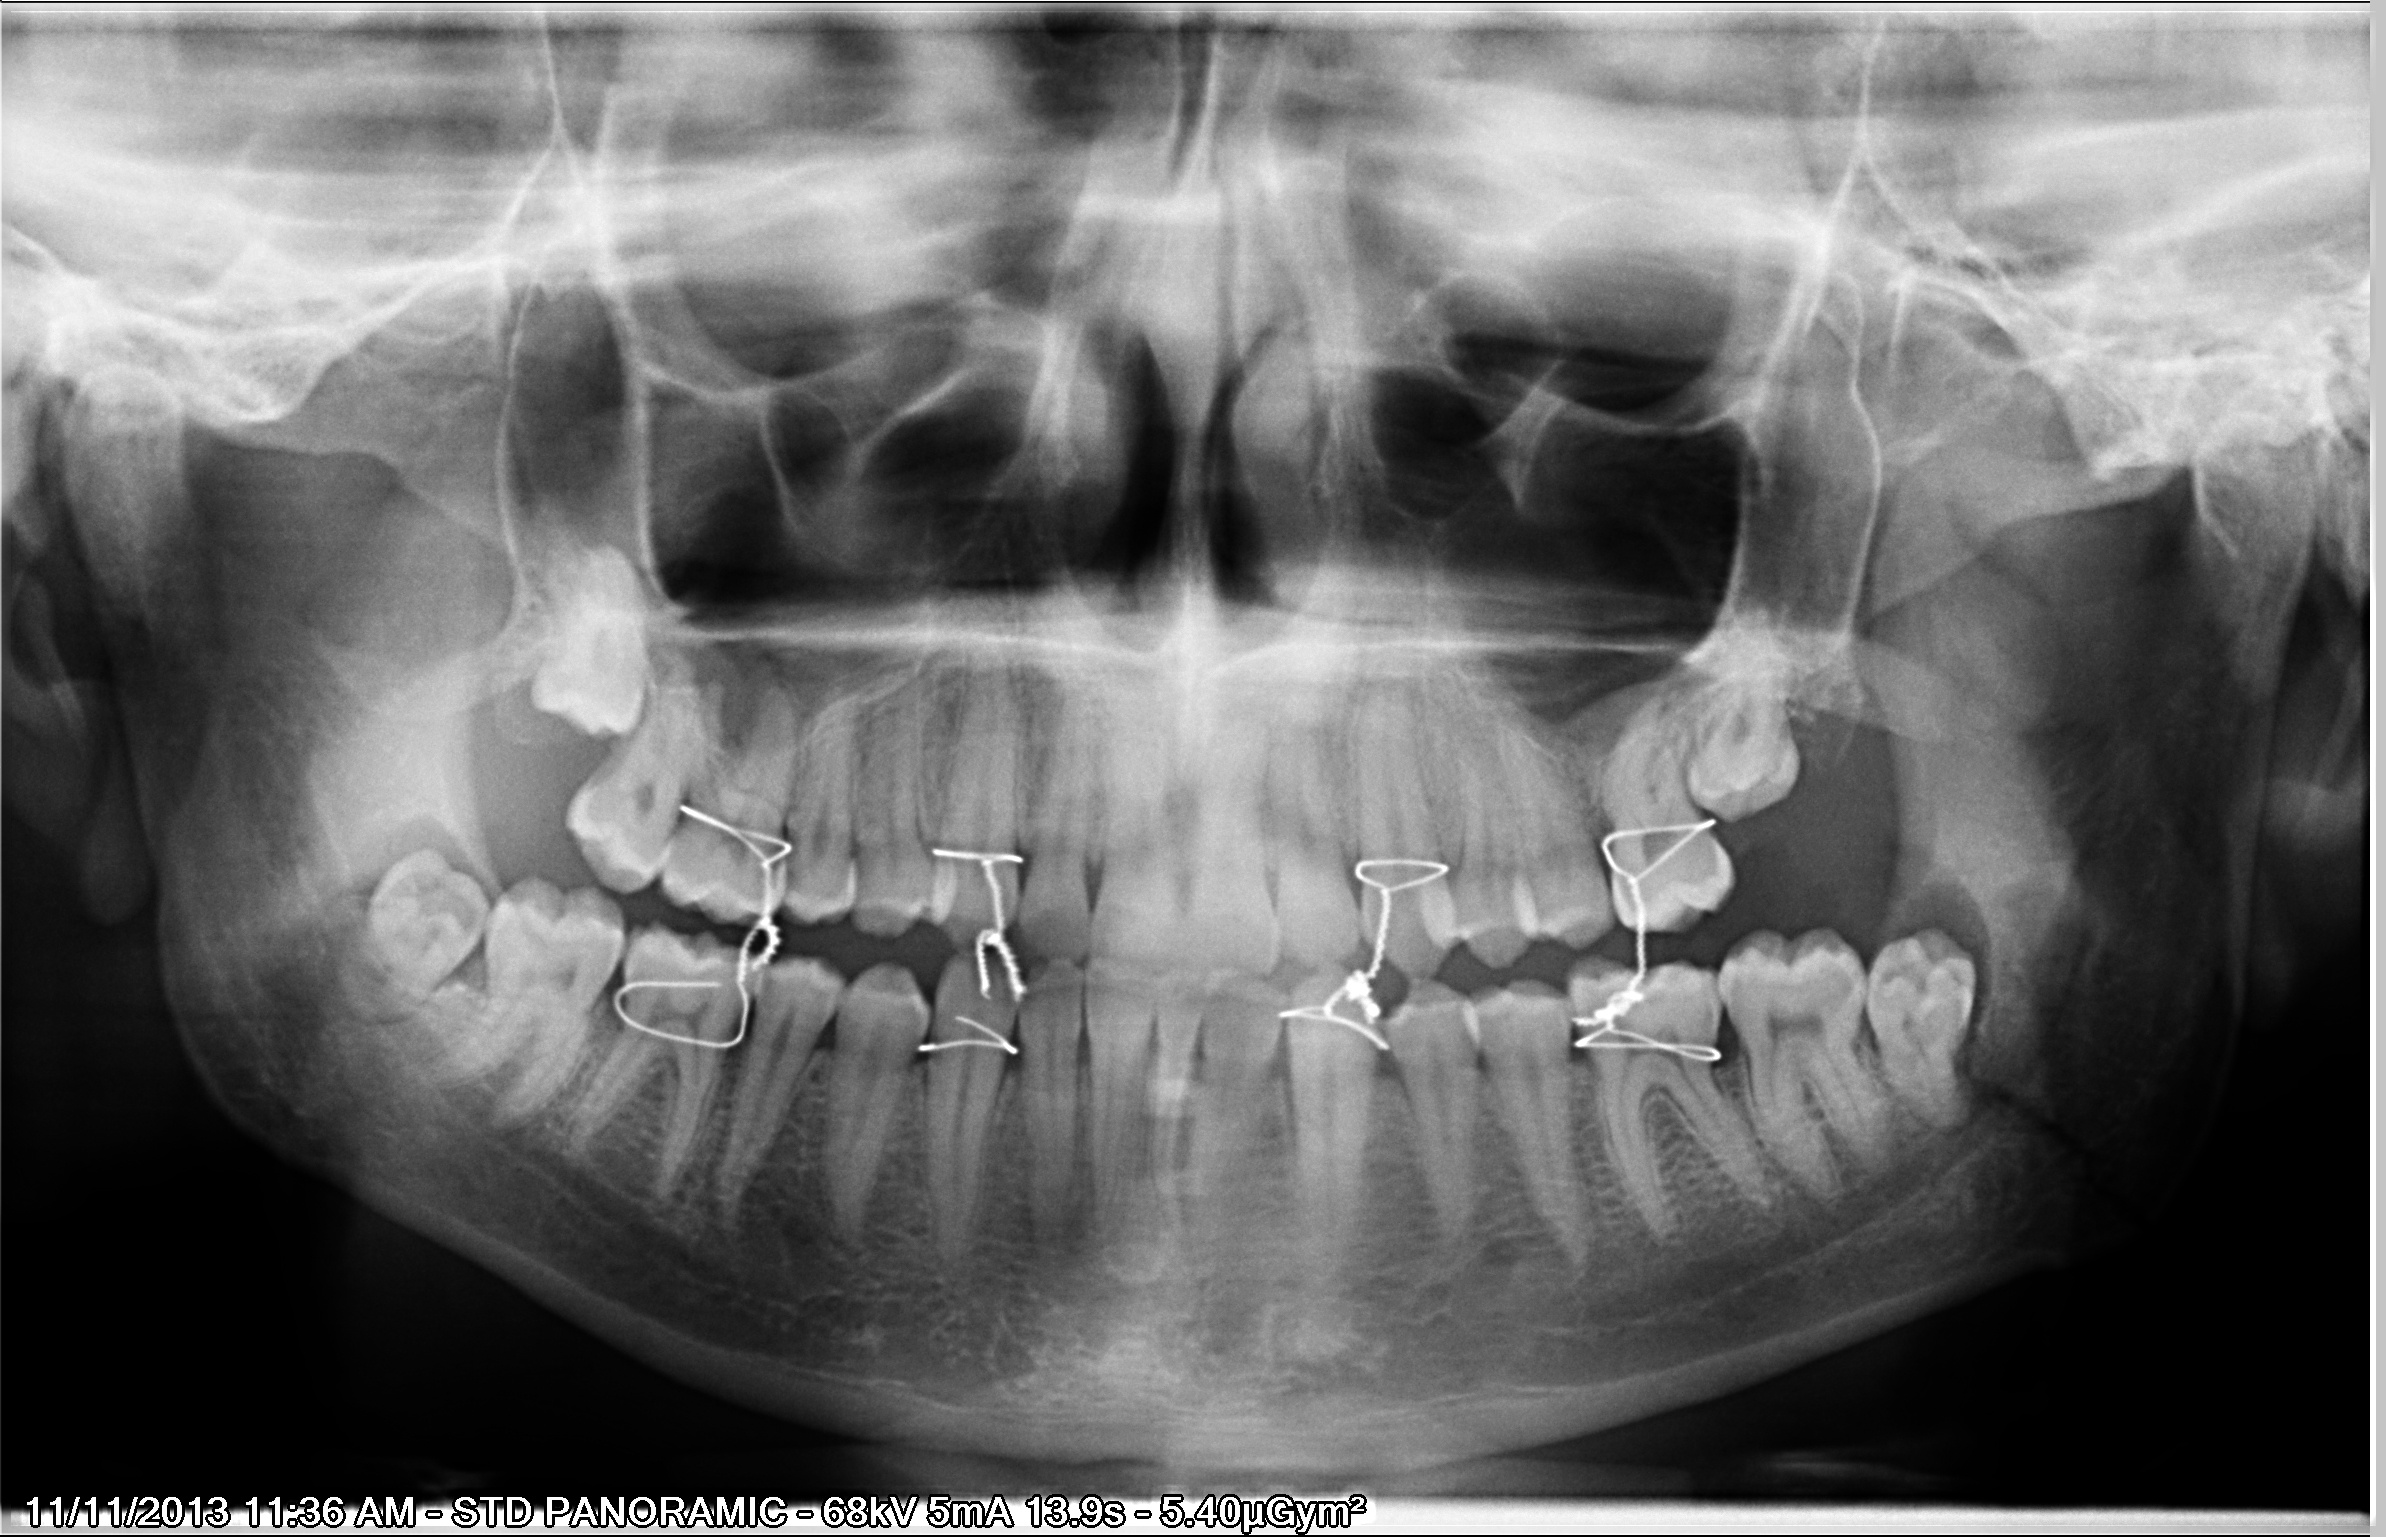BON: (303, 847, 510, 1036), (1847, 902, 2000, 1149), (1664, 602, 1814, 821), (522, 548, 676, 748)
ORD: (619, 796, 796, 1061), (1572, 814, 1741, 1076), (1275, 845, 1468, 1054), (910, 822, 1030, 1073)
